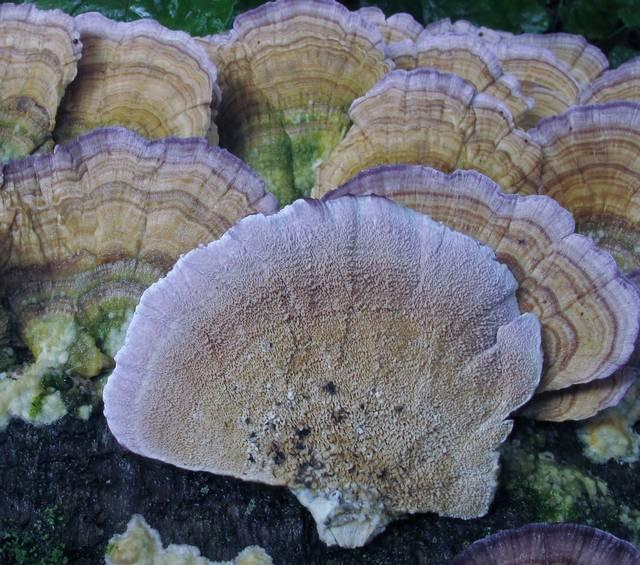poisonous_mushroom: (0, 3, 640, 404), (100, 191, 545, 549), (437, 520, 639, 564)
